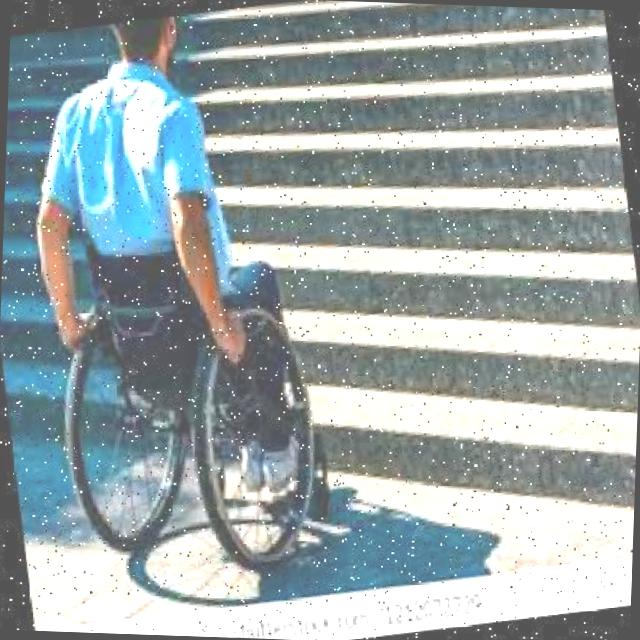Person: (0, 0, 361, 593)
